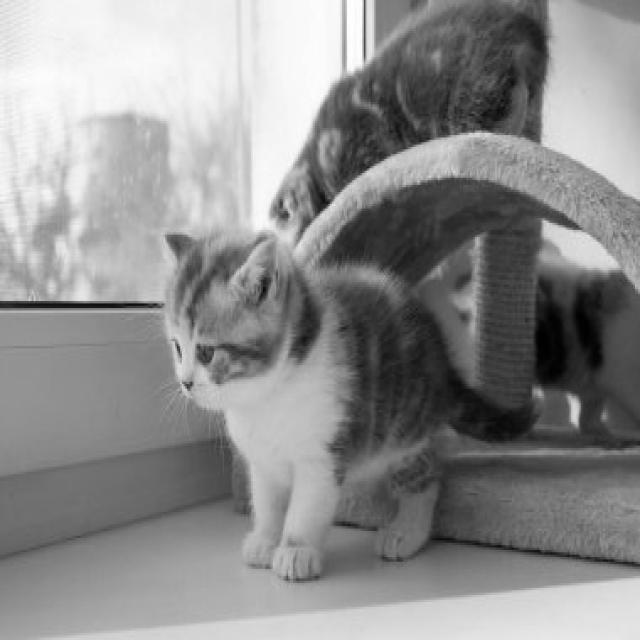Animal: (165, 230, 535, 580)
